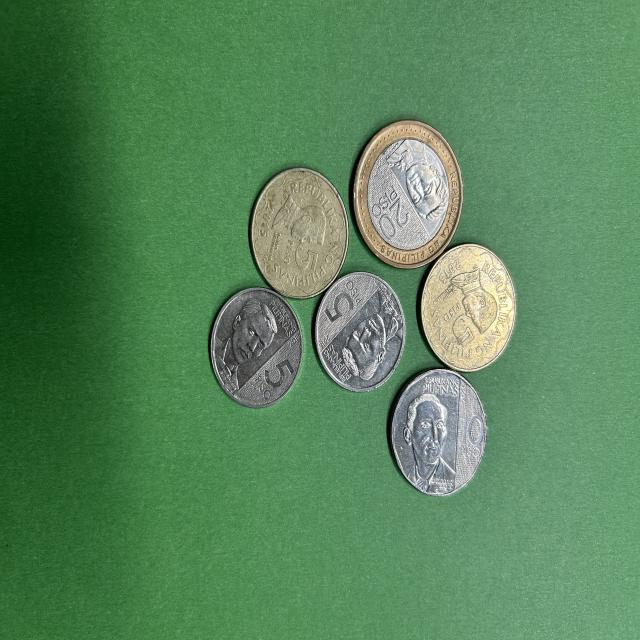10_New_Front: (451, 398, 486, 460)
20_New_Front: (370, 181, 412, 245)
5_New_Front: (321, 276, 368, 335), (250, 348, 294, 404)
5_Old_Front: (249, 165, 348, 297), (421, 242, 508, 363)
